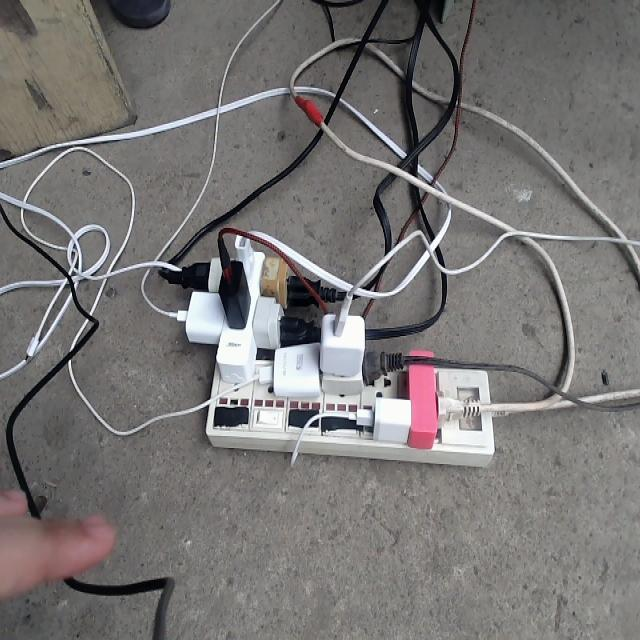-: (172, 216, 498, 471)
